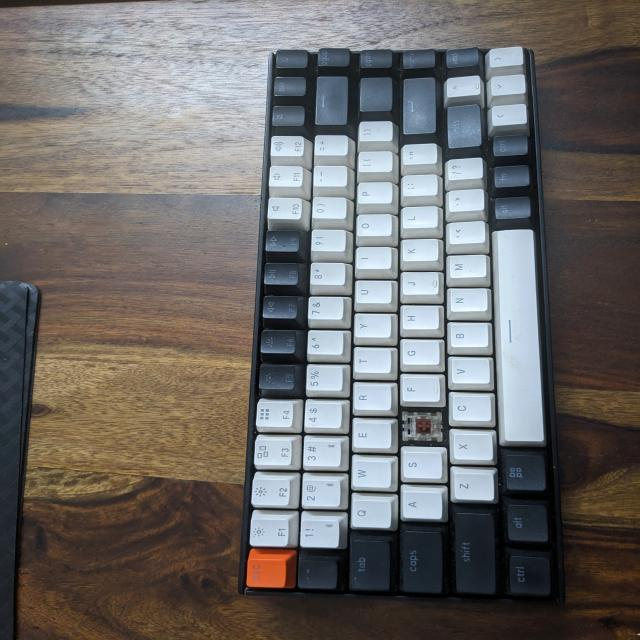C: (398, 406, 449, 446)
